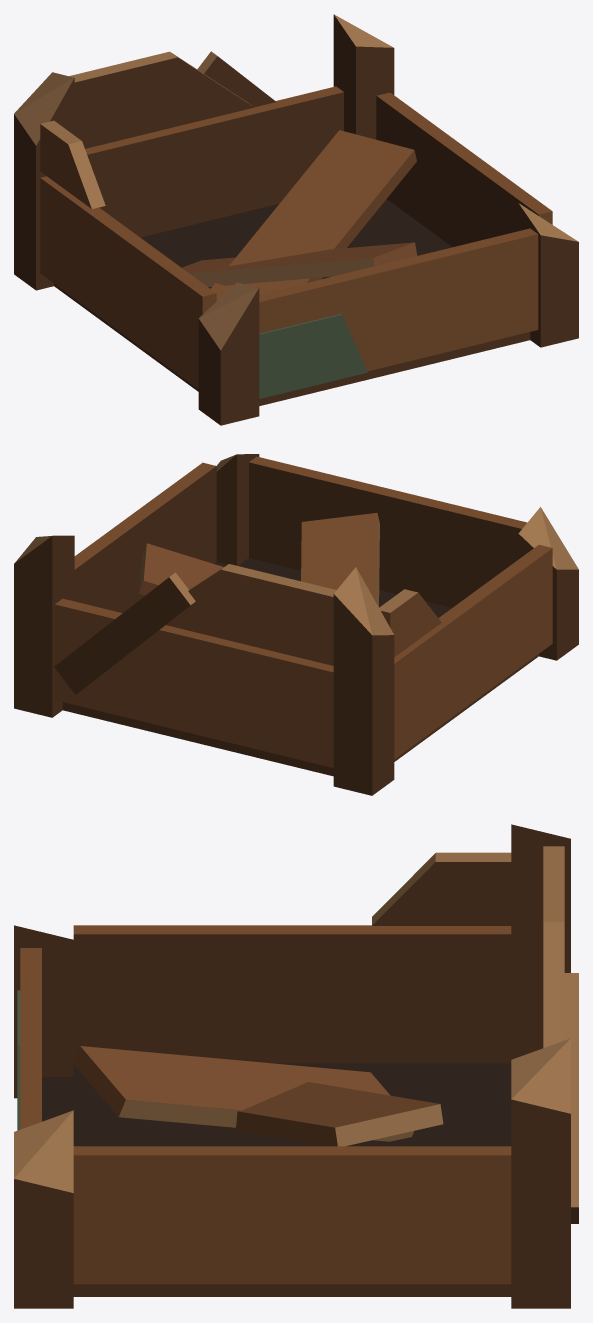
Rendered from MODEL-DESTRUCTIBLE_Crate_Broken.fbx.
3 views of the same model, one above another, from view 1: azimuth 30°, elevation 25°; view 2: azimuth 150°, elevation 25°; view 3: azimuth 270°, elevation 25° (orthographic). The views are drawn at different scales.
Parts seen in each view (by area): view 1: Crate_Broken_Base, Crate_Broken_Plank_0, Crate_Broken_Plank_1; view 2: Crate_Broken_Base, Crate_Broken_Plank_1, Crate_Broken_Plank_0; view 3: Crate_Broken_Base, Crate_Broken_Plank_1, Crate_Broken_Plank_0.
Part boxes in pixels (<box>): Crate_Broken_Base: <box>14,14,578,425</box>; Crate_Broken_Plank_0: <box>210,130,416,300</box>; Crate_Broken_Plank_1: <box>182,242,417,286</box>; Crate_Broken_Base: <box>14,454,578,795</box>; Crate_Broken_Plank_1: <box>301,513,379,607</box>; Crate_Broken_Plank_0: <box>139,543,223,595</box>; Crate_Broken_Base: <box>14,824,578,1308</box>; Crate_Broken_Plank_1: <box>73,1046,413,1141</box>; Crate_Broken_Plank_0: <box>198,1082,443,1146</box>.
Bounding box in the file's own units: 0.7 × 0.38 × 0.71.
Materials: 1 (1 with a texture image).
